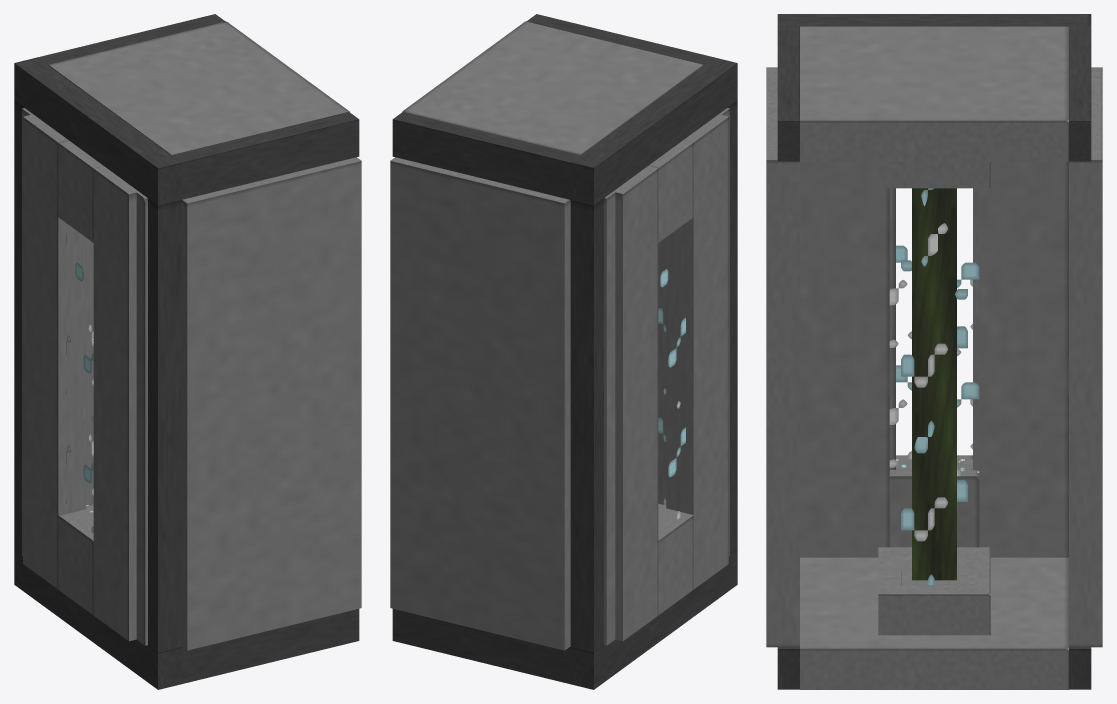
File: neutronCapturer.obj
3 views of the same model, side by side, from view 1: azimuth 30°, elevation 25°; view 2: azimuth 150°, elevation 25°; view 3: azimuth 270°, elevation 25° (orthographic). The views are drawn at different scales.
Parts seen in each view (by area): view 1: cube; view 2: cube; view 3: cube, centerRod.
Part boxes in pixels (box(x1,y1,x2,y2)): cube: box(14, 14, 361, 689); cube: box(390, 14, 737, 689); cube: box(766, 14, 1102, 689); centerRod: box(912, 188, 956, 580).
Size of the model in its own units: 5.97 by 14 by 7.5.
